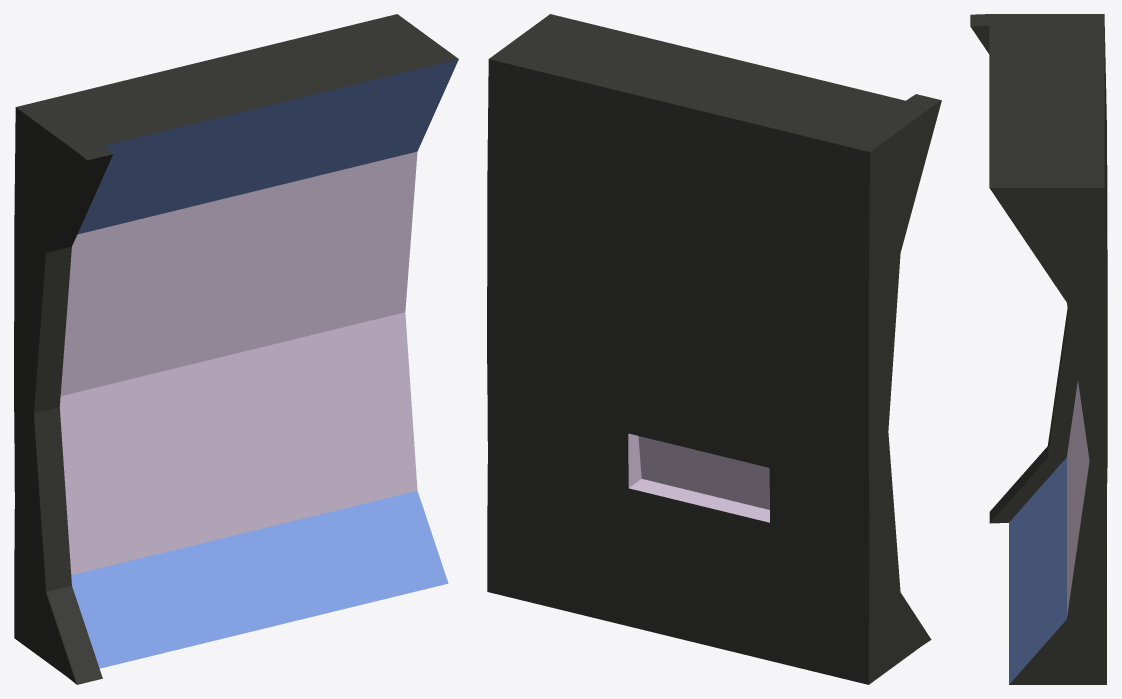
Rendered from SmallWalls_no_window.fbx.
The picture shows the model from 3 angles, left to right: view 1: azimuth 30°, elevation 25°; view 2: azimuth 150°, elevation 25°; view 3: azimuth 270°, elevation 25°; orthographic projection. The views are drawn at different scales.
Visible parts, largest first — view 1: Cylinder; view 2: Cylinder; view 3: Cylinder.
Part boxes in pixels (left/top/right/bottom): Cylinder: left=14, top=14, right=458, bottom=684; Cylinder: left=487, top=14, right=941, bottom=684; Cylinder: left=970, top=14, right=1107, bottom=684.
Size of the model in its own units: 6 by 8 by 2.
